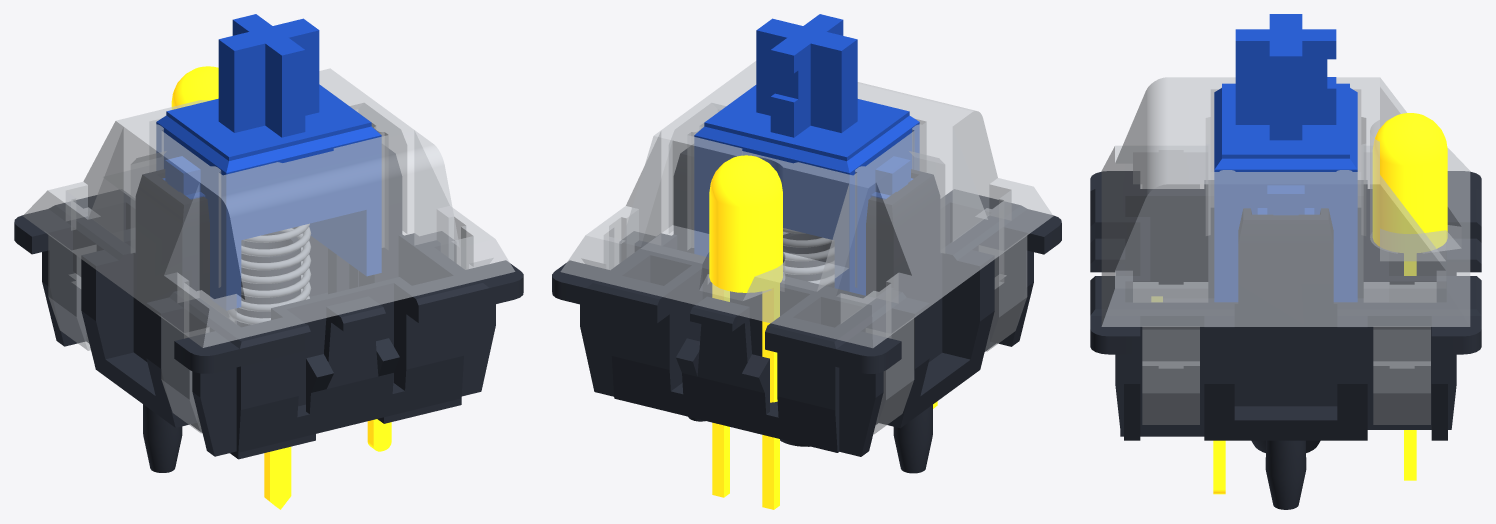
The model's file is cherry_mx_single.glb.
3 views of the same model, side by side, from view 1: azimuth 30°, elevation 25°; view 2: azimuth 150°, elevation 25°; view 3: azimuth 270°, elevation 25° (orthographic). The views are drawn at different scales.
Visible parts, largest first — view 1: Mid_Bottom, Mid_Top, Mid_Switch, Mid_LED, Mid_Spring; view 2: Mid_Bottom, Mid_Top, Mid_Switch, Mid_LED, Mid_Spring; view 3: Mid_Bottom, Mid_Top, Mid_Switch, Mid_LED.
Boxes of the visible parts, x1,y1,x2,y2 form: Mid_Bottom: (14,144,523,472); Mid_Top: (23,68,514,433); Mid_Switch: (156,14,381,309); Mid_LED: (171,66,391,509); Mid_Spring: (228,224,310,324); Mid_Bottom: (552,144,1061,473); Mid_Top: (560,61,1053,433); Mid_Switch: (694,14,919,295); Mid_LED: (709,155,937,509); Mid_Spring: (783,228,834,285); Mid_Bottom: (1090,171,1481,509); Mid_Top: (1101,77,1470,424); Mid_Switch: (1214,14,1357,301); Mid_LED: (1152,113,1447,494).
Bounding box in the file's own units: 0.0156 × 0.0189 × 0.0156.
